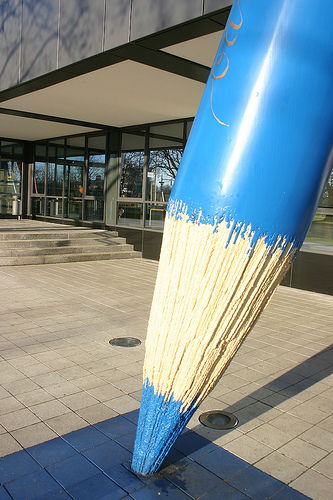pen_tip: (127, 170, 307, 488)
